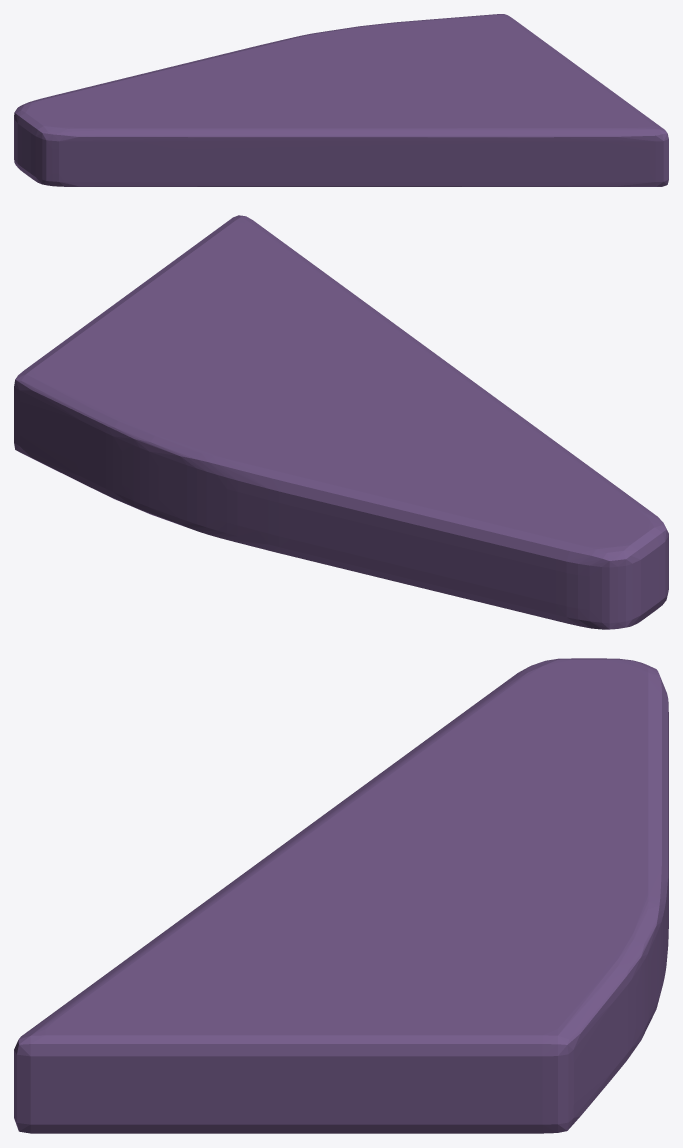
Rendered from left_ankle_link_part_1.obj.
The picture shows the model from 3 angles, top to bottom: view 1: azimuth 30°, elevation 25°; view 2: azimuth 150°, elevation 25°; view 3: azimuth 270°, elevation 25°; orthographic projection. The views are drawn at different scales.
Bounding box in the file's own units: 0.0764 × 0.00887 × 0.0543.
